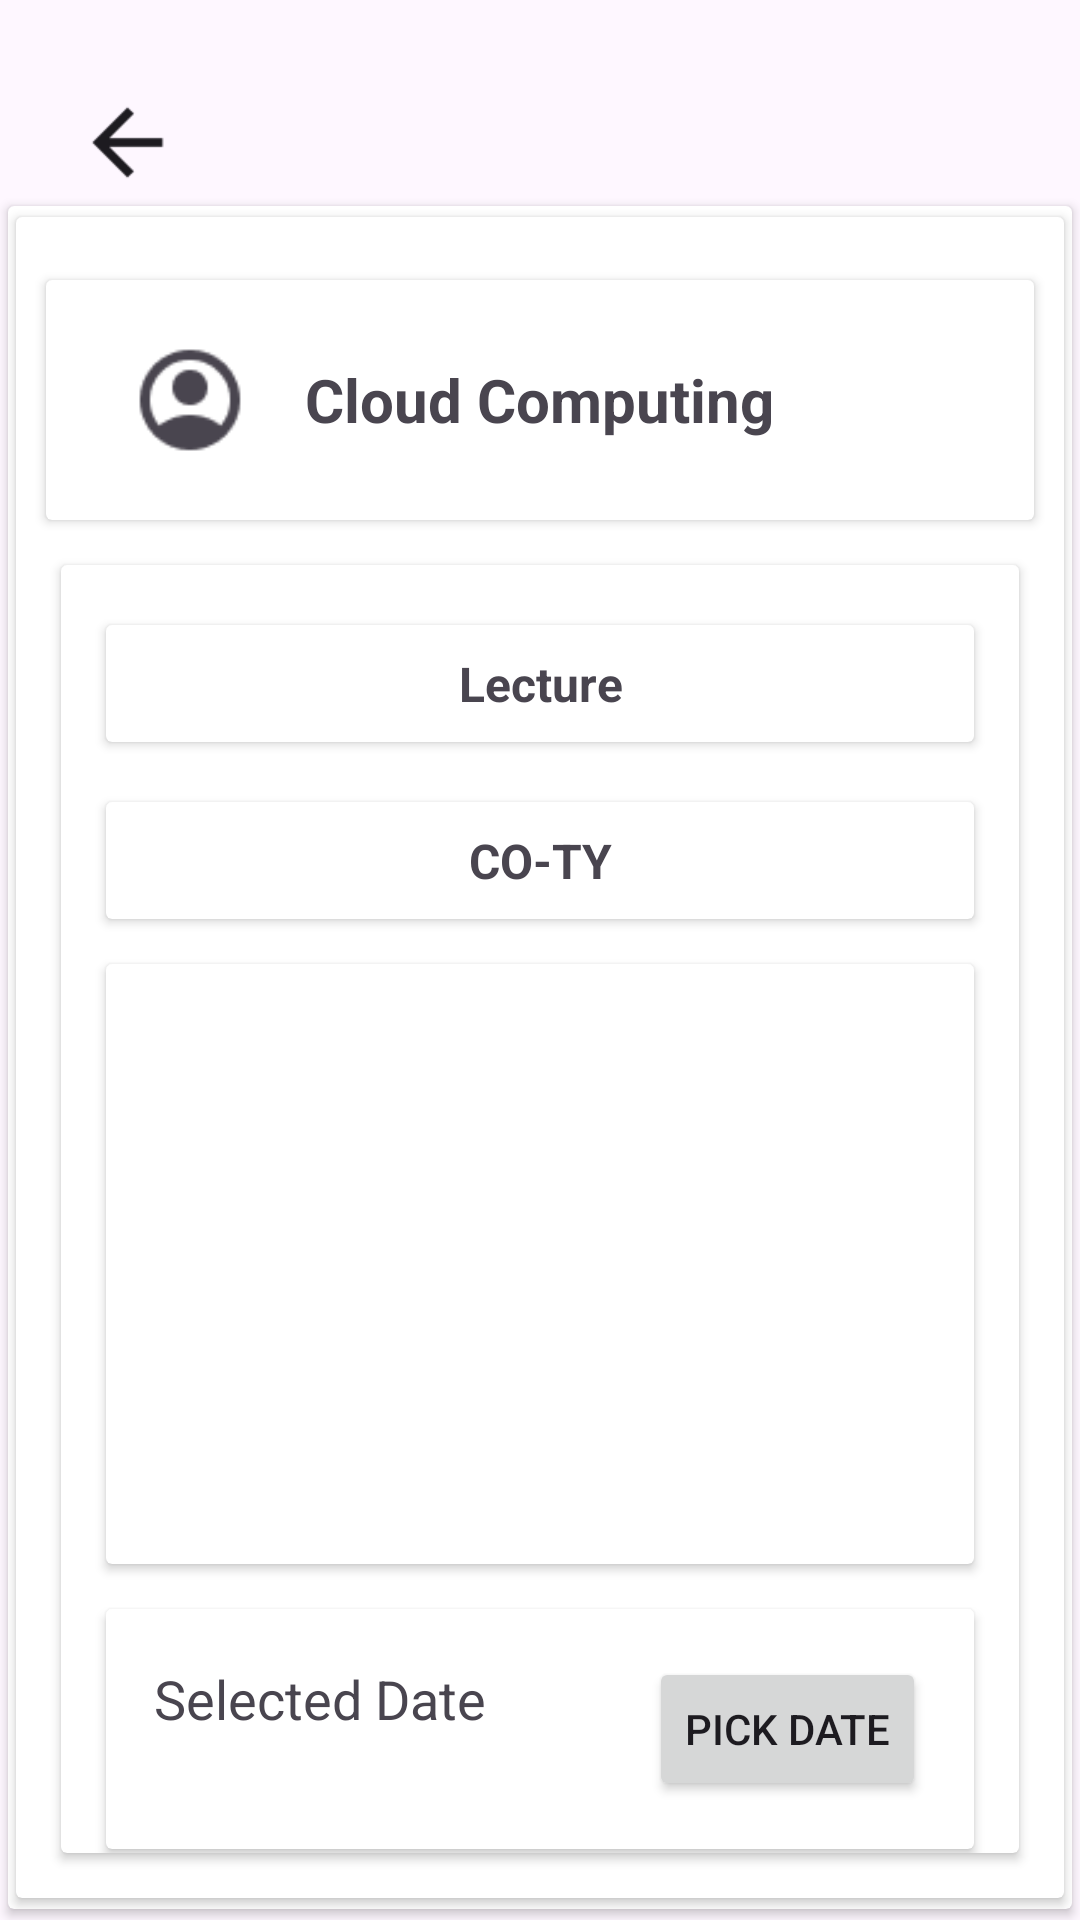

Where to tap for icons on this 1080*1920 app screen, as point (x, y):
back arrow: point (128, 142)
profile: point (190, 400)
